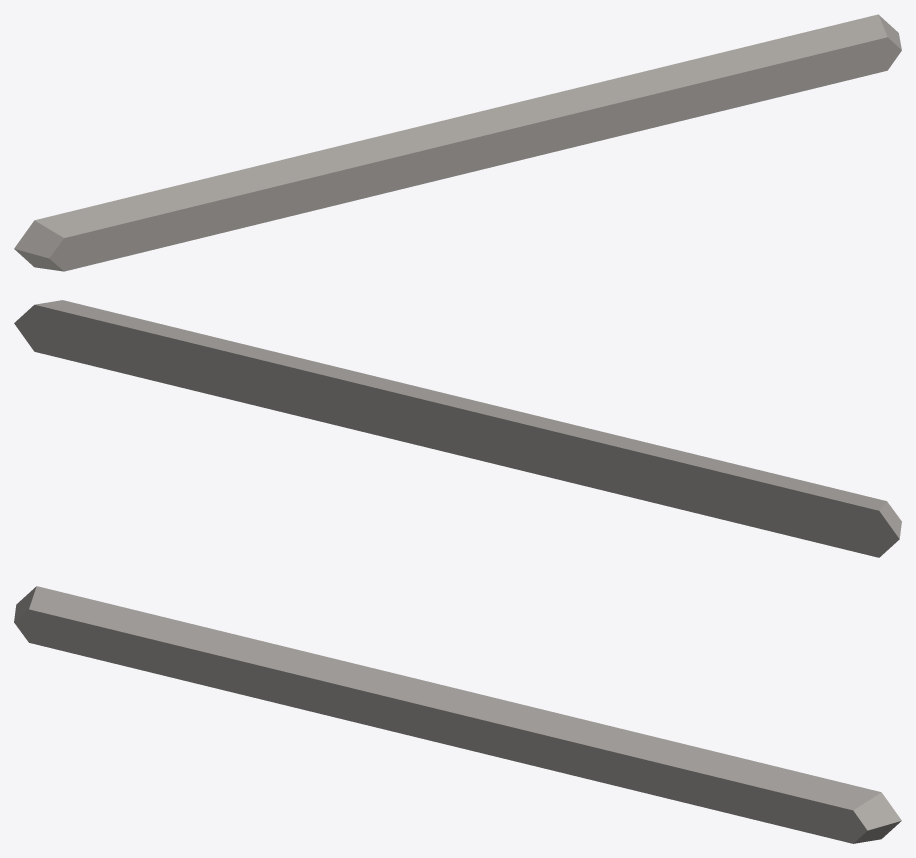
Rendered from SM_Prop_Neon_Shape_08.obj.
The picture shows the model from 3 angles, top to bottom: view 1: azimuth 30°, elevation 25°; view 2: azimuth 150°, elevation 25°; view 3: azimuth 330°, elevation 25°; orthographic projection.
Visible parts, largest first — view 1: SM_Prop_Neon_Shape_08_0; view 2: SM_Prop_Neon_Shape_08_0; view 3: SM_Prop_Neon_Shape_08_0.
Boxes of the visible parts, <box> form: SM_Prop_Neon_Shape_08_0: <box>14,14,901,271</box>; SM_Prop_Neon_Shape_08_0: <box>14,300,901,557</box>; SM_Prop_Neon_Shape_08_0: <box>14,586,901,843</box>.
Size of the model in its own units: 1.01 by 0.0512 by 0.0371.
1 material, 1 textured.
